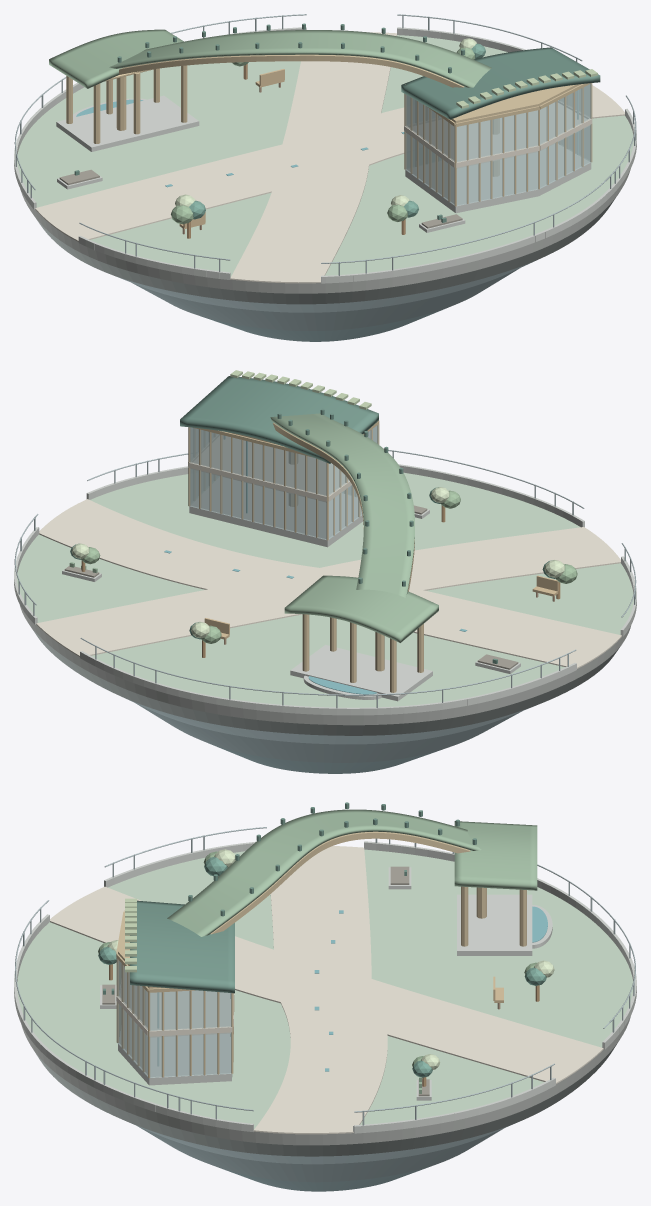
The picture shows the model from 3 angles, top to bottom: view 1: azimuth 30°, elevation 25°; view 2: azimuth 150°, elevation 25°; view 3: azimuth 270°, elevation 25°; orthographic projection. The views are drawn at different scales.
Parts seen in each view (by area): view 1: ROLE_terrain_Components__grass, ROLE_paving_Components__paveLight, ROLE_building_Components__mistglass, ROLE_roof_Components__ecoLeaf, ROLE_building_Components__ecoWood, ROLE_building_Components__stone2, ROLE_rails_Components__stone2, ROLE_terrain_Components__stone2, ROLE_roof_Components__ecoDeep, ROLE_terrain_Components__cliff3, ROLE_terrain_Components__cliff2, ROLE_building_Components__paveLight (+12 smaller); view 2: ROLE_terrain_Components__grass, ROLE_paving_Components__paveLight, ROLE_roof_Components__ecoLeaf, ROLE_building_Components__mistglass, ROLE_building_Components__stone2, ROLE_rails_Components__stone2, ROLE_roof_Components__ecoDeep, ROLE_building_Components__ecoWood, ROLE_terrain_Components__stone2, ROLE_terrain_Components__cliff3, ROLE_terrain_Components__cliff2, ROLE_building_Components__paveLight (+11 smaller); view 3: ROLE_terrain_Components__grass, ROLE_paving_Components__paveLight, ROLE_roof_Components__ecoLeaf, ROLE_building_Components__mistglass, ROLE_rails_Components__stone2, ROLE_building_Components__stone2, ROLE_roof_Components__ecoDeep, ROLE_building_Components__ecoWood, ROLE_terrain_Components__stone2, ROLE_terrain_Components__cliff3, ROLE_terrain_Components__cliff2, ROLE_building_Components__paveLight (+10 smaller).
Boxes of the visible parts, x1,y1,x2,y2 form: ROLE_terrain_Components__grass: (17,35,633,276); ROLE_paving_Components__paveLight: (35,32,624,283); ROLE_building_Components__mistglass: (405,83,591,205); ROLE_roof_Components__ecoLeaf: (49,29,491,88); ROLE_building_Components__ecoWood: (66,54,592,206); ROLE_building_Components__stone2: (56,95,591,213); ROLE_rails_Components__stone2: (14,27,636,283); ROLE_terrain_Components__stone2: (20,169,630,293); ROLE_roof_Components__ecoDeep: (401,47,600,119); ROLE_terrain_Components__cliff3: (34,195,617,304); ROLE_terrain_Components__cliff2: (132,268,518,330); ROLE_building_Components__paveLight: (404,101,592,168); ROLE_terrain_Components__grass: (17,472,633,707); ROLE_paving_Components__paveLight: (36,499,621,668); ROLE_roof_Components__ecoLeaf: (270,413,438,642); ROLE_building_Components__mistglass: (189,424,378,539); ROLE_building_Components__stone2: (189,477,432,701); ROLE_rails_Components__stone2: (14,464,636,715); ROLE_roof_Components__ecoDeep: (180,376,378,463); ROLE_building_Components__ecoWood: (188,420,423,692); ROLE_terrain_Components__stone2: (20,605,630,725); ROLE_terrain_Components__cliff3: (30,626,621,735); ROLE_terrain_Components__cliff2: (136,703,521,762); ROLE_building_Components__paveLight: (188,434,351,502); ROLE_terrain_Components__grass: (17,849,633,1129); ROLE_paving_Components__paveLight: (50,846,603,1134); ROLE_roof_Components__ecoLeaf: (167,809,537,936); ROLE_building_Components__mistglass: (117,959,231,1077); ROLE_rails_Components__stone2: (14,841,636,1133); ROLE_building_Components__stone2: (118,894,532,1085); ROLE_roof_Components__ecoDeep: (130,900,234,993); ROLE_building_Components__ecoWood: (116,831,526,1077); ROLE_terrain_Components__stone2: (21,1016,630,1145); ROLE_terrain_Components__cliff3: (34,1043,617,1156); ROLE_terrain_Components__cliff2: (137,1126,503,1182); ROLE_building_Components__paveLight: (116,967,234,1037).
Size of the model in its own units: 33.65 by 16.2 by 30.81.
